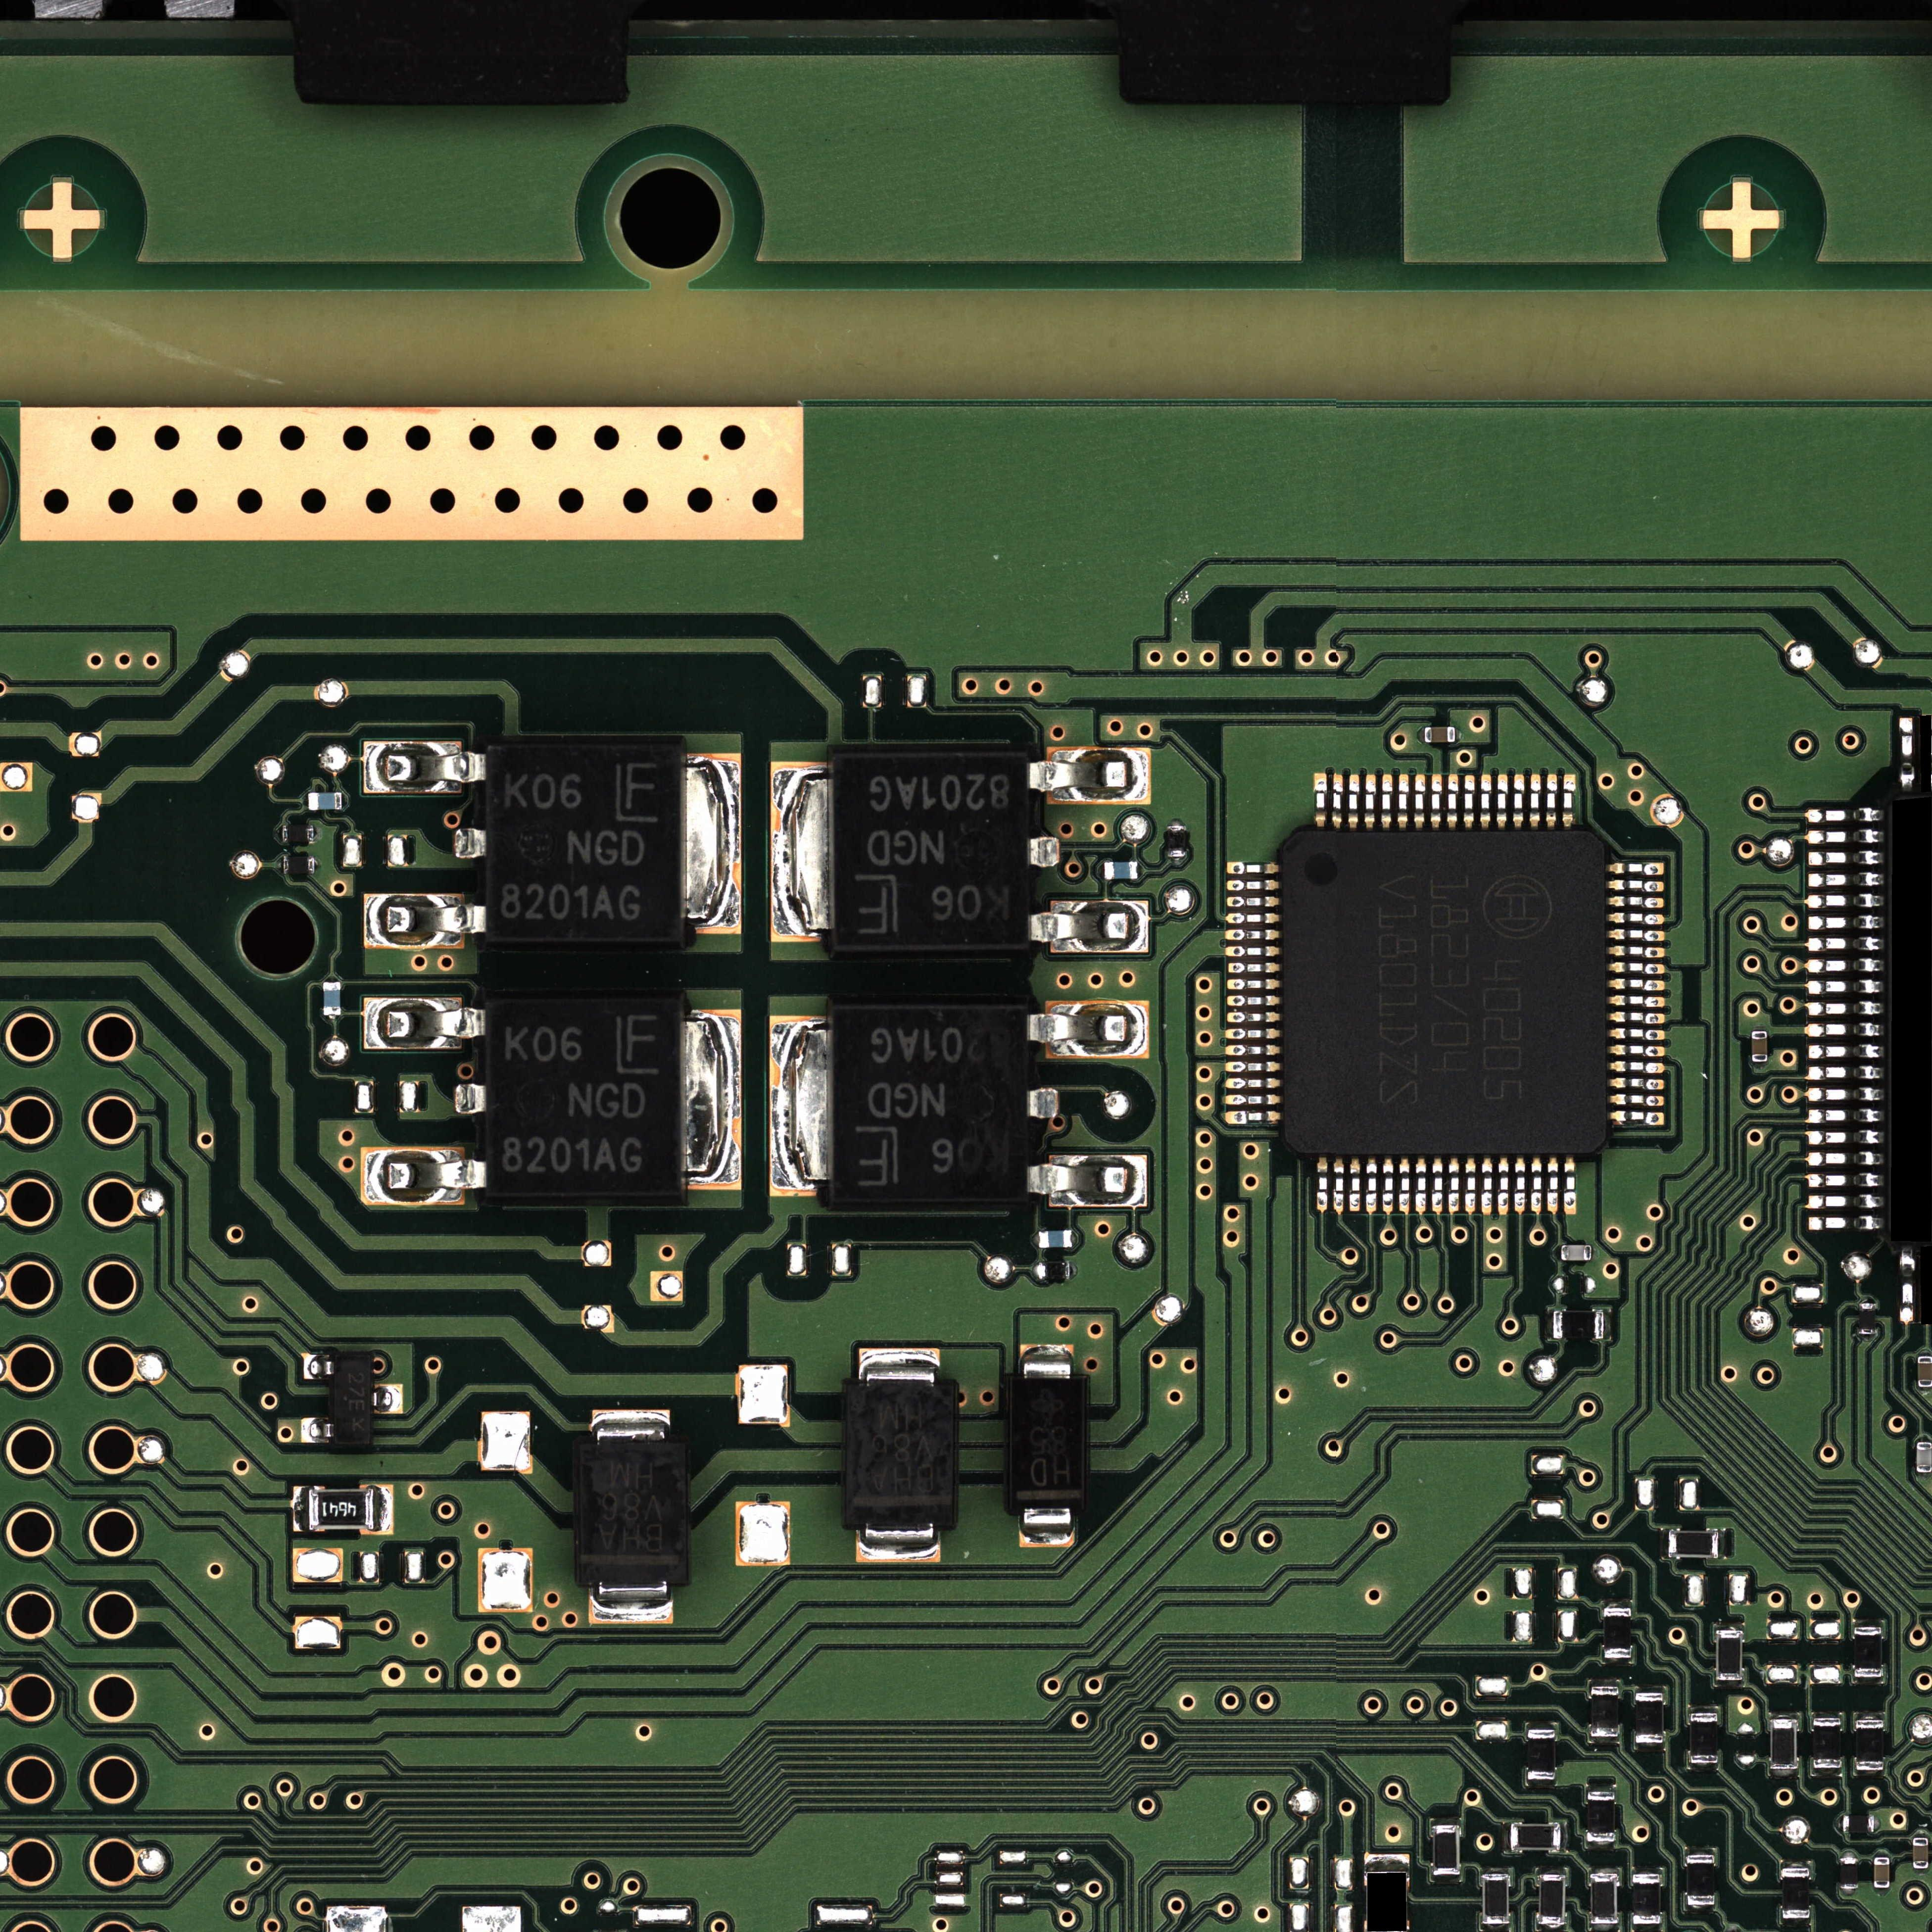Package: (1283, 830, 1606, 1155), (485, 998, 681, 1198), (832, 1007, 1028, 1203), (835, 755, 1030, 948), (487, 745, 679, 938), (579, 1442, 688, 1582), (846, 1385, 954, 1525), (1010, 1378, 1086, 1507), (333, 1353, 372, 1447), (310, 1488, 373, 1529), (1553, 1311, 1603, 1339), (1527, 1730, 1555, 1780), (1854, 1628, 1882, 1677), (1587, 1792, 1615, 1842), (1782, 1868, 1810, 1918), (1603, 1608, 1631, 1658), (1856, 1720, 1884, 1769), (1635, 1693, 1663, 1743), (1591, 1688, 1619, 1736), (1690, 1714, 1718, 1762), (1813, 1720, 1842, 1767), (1668, 1530, 1718, 1557), (1688, 1856, 1714, 1905), (1511, 1824, 1560, 1851), (1591, 1874, 1617, 1923), (1633, 1874, 1660, 1923), (1716, 1631, 1743, 1679), (1433, 1826, 1458, 1875), (1771, 1720, 1796, 1769), (1483, 1874, 1507, 1923), (1539, 1875, 1564, 1925), (322, 982, 341, 1016), (308, 793, 341, 810), (1104, 862, 1138, 879), (1039, 1230, 1072, 1247), (281, 824, 313, 842), (283, 856, 315, 874), (1168, 826, 1185, 858), (1039, 1261, 1070, 1279), (1840, 1858, 1858, 1888), (1844, 1815, 1874, 1833), (1859, 1302, 1875, 1334), (1424, 727, 1454, 743), (1874, 1858, 1890, 1888), (1752, 1031, 1767, 1062), (1913, 1838, 1928, 1868), (1916, 1442, 1932, 1472), (1918, 1355, 1932, 1387), (1562, 1246, 1591, 1260)
Solder: (679, 752, 741, 934), (771, 761, 833, 943), (770, 1016, 830, 1196), (683, 1010, 741, 1191), (1030, 747, 1150, 803), (1028, 1001, 1148, 1058), (364, 893, 483, 950), (364, 1148, 483, 1205), (1030, 899, 1148, 954), (1028, 1154, 1146, 1208), (364, 998, 485, 1051), (364, 741, 483, 794), (591, 1582, 672, 1622), (856, 1525, 939, 1562), (860, 1348, 939, 1385), (591, 1408, 671, 1442), (1019, 1509, 1076, 1546), (1019, 1345, 1074, 1378), (1806, 959, 1882, 973), (1806, 851, 1882, 865), (1806, 872, 1882, 886), (1900, 1247, 1914, 1322), (1808, 1044, 1882, 1058), (1900, 717, 1914, 791), (1808, 1001, 1881, 1016), (1028, 835, 1060, 867), (1805, 895, 1882, 908), (1805, 809, 1882, 821), (372, 1384, 403, 1414), (453, 828, 485, 858), (455, 1083, 487, 1113), (1028, 1088, 1060, 1118), (1806, 938, 1882, 950), (1808, 1194, 1882, 1207), (1808, 1152, 1882, 1164), (1808, 1175, 1882, 1187), (1808, 1131, 1882, 1143), (1806, 1067, 1881, 1079), (1806, 980, 1881, 993), (1806, 916, 1881, 929), (1806, 830, 1881, 842), (1810, 1217, 1882, 1230), (1808, 1109, 1881, 1122), (1808, 1088, 1881, 1100), (1808, 1023, 1881, 1035), (373, 1486, 393, 1532), (1606, 862, 1665, 876), (301, 1417, 333, 1442), (1364, 1852, 1408, 1870), (1226, 862, 1279, 876), (304, 1355, 334, 1380), (1382, 1155, 1394, 1215), (1431, 1155, 1444, 1215), (1564, 1155, 1576, 1215), (1224, 1093, 1283, 1106), (1606, 945, 1665, 957), (1606, 929, 1665, 941), (1606, 1028, 1665, 1040), (1606, 1044, 1665, 1056), (1606, 994, 1665, 1007), (1546, 1155, 1559, 1214), (1530, 1155, 1543, 1214), (1606, 978, 1665, 991), (1481, 1155, 1493, 1214), (1414, 773, 1426, 830), (1224, 1044, 1281, 1056), (1224, 1111, 1281, 1123), (1606, 879, 1663, 892), (1606, 895, 1663, 908), (1608, 1077, 1665, 1090), (1608, 1093, 1665, 1106), (1608, 1111, 1665, 1123), (1315, 773, 1327, 828), (1226, 929, 1281, 941), (1226, 994, 1281, 1007), (1463, 775, 1476, 830), (1562, 773, 1575, 828), (1226, 945, 1279, 957), (1226, 879, 1279, 892), (1415, 1155, 1426, 1215), (1399, 1155, 1410, 1215), (1449, 1155, 1460, 1215), (1228, 962, 1279, 975), (1228, 895, 1279, 908), (294, 1486, 308, 1530), (1316, 1155, 1327, 1214), (1334, 1155, 1345, 1214), (1224, 1077, 1283, 1088), (1606, 913, 1665, 924), (1606, 1062, 1665, 1072), (1606, 1012, 1665, 1023), (1606, 962, 1665, 973), (1514, 1155, 1525, 1214), (1499, 1155, 1509, 1214), (1332, 773, 1343, 830), (1348, 773, 1359, 830), (1364, 773, 1375, 830), (1382, 773, 1392, 830), (1398, 773, 1408, 830), (1224, 1028, 1281, 1039), (1224, 1062, 1281, 1072), (1350, 1157, 1361, 1214), (1366, 1157, 1376, 1214), (1431, 773, 1442, 830), (1447, 773, 1458, 830), (1513, 773, 1523, 830), (1530, 773, 1541, 830), (1546, 773, 1557, 830), (1497, 773, 1507, 830), (1481, 773, 1491, 830), (1465, 1157, 1476, 1214), (1226, 913, 1281, 924), (1226, 1012, 1281, 1023), (1228, 978, 1281, 989), (1782, 1858, 1810, 1868), (1631, 1865, 1661, 1874), (1635, 1684, 1665, 1693), (1686, 1845, 1714, 1854), (1856, 1713, 1884, 1721), (1591, 1865, 1619, 1874), (1502, 1822, 1511, 1851), (1591, 1736, 1619, 1744), (1854, 1619, 1882, 1628), (1591, 1923, 1619, 1932), (1587, 1783, 1615, 1792), (1633, 1923, 1661, 1932), (1431, 1817, 1460, 1826), (1690, 1706, 1718, 1714), (1537, 1923, 1566, 1932), (1527, 1721, 1555, 1730), (1539, 1867, 1566, 1875), (1483, 1923, 1509, 1932), (1603, 1309, 1610, 1341), (1661, 1527, 1668, 1559), (1771, 1767, 1796, 1776), (1546, 1309, 1553, 1339), (1714, 1624, 1744, 1631), (1635, 1743, 1665, 1750), (1714, 1681, 1744, 1688), (1589, 1679, 1619, 1686), (1718, 1529, 1725, 1559), (1527, 1780, 1555, 1787), (1686, 1905, 1714, 1913), (1587, 1842, 1615, 1849), (1813, 1767, 1842, 1775), (1813, 1713, 1842, 1720), (1560, 1822, 1568, 1851), (1603, 1601, 1631, 1608), (1854, 1677, 1882, 1684), (1782, 1918, 1810, 1925), (1433, 1875, 1460, 1882), (1771, 1713, 1798, 1720), (1483, 1867, 1509, 1874), (1166, 856, 1185, 865), (1166, 817, 1185, 826), (1454, 725, 1463, 743), (1553, 1244, 1562, 1261), (1591, 1244, 1599, 1261), (1690, 1764, 1718, 1769), (1603, 1658, 1631, 1663), (1856, 1769, 1884, 1775), (301, 791, 308, 810), (276, 855, 283, 874), (341, 793, 349, 810), (315, 856, 322, 874), (274, 824, 281, 842), (315, 824, 322, 842), (322, 975, 340, 982), (1097, 862, 1104, 879), (1138, 862, 1145, 879), (1070, 1263, 1077, 1281), (1072, 1231, 1079, 1249), (1858, 1334, 1875, 1341), (1417, 727, 1424, 743), (1031, 1231, 1039, 1247), (1916, 1435, 1932, 1442), (1752, 1062, 1767, 1069), (1752, 1024, 1767, 1031), (1916, 1472, 1932, 1479), (1031, 1263, 1039, 1279), (1918, 1387, 1932, 1394), (1842, 1890, 1856, 1897), (1842, 1851, 1856, 1858), (1859, 1297, 1875, 1302), (1836, 1815, 1842, 1831), (1918, 1350, 1932, 1355), (1874, 1817, 1879, 1831), (1875, 1852, 1888, 1858), (1875, 1888, 1888, 1893), (1914, 1868, 1927, 1874), (1914, 1833, 1927, 1838), (324, 1016, 341, 1019)
